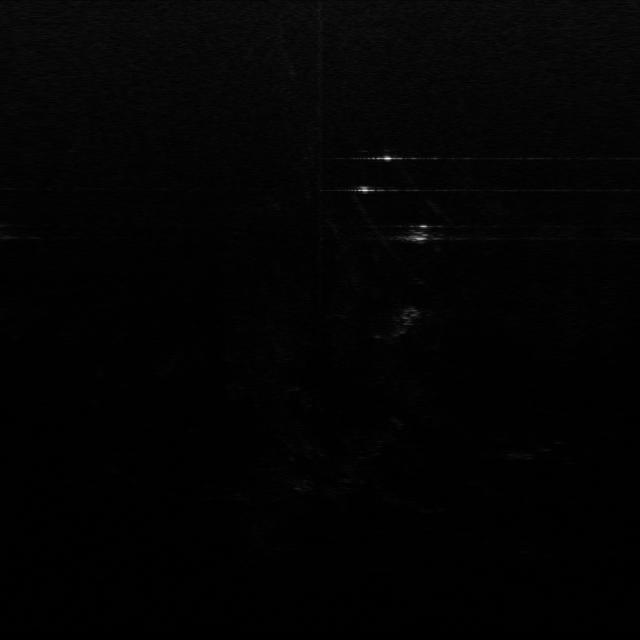rov: (410, 222, 436, 244)
